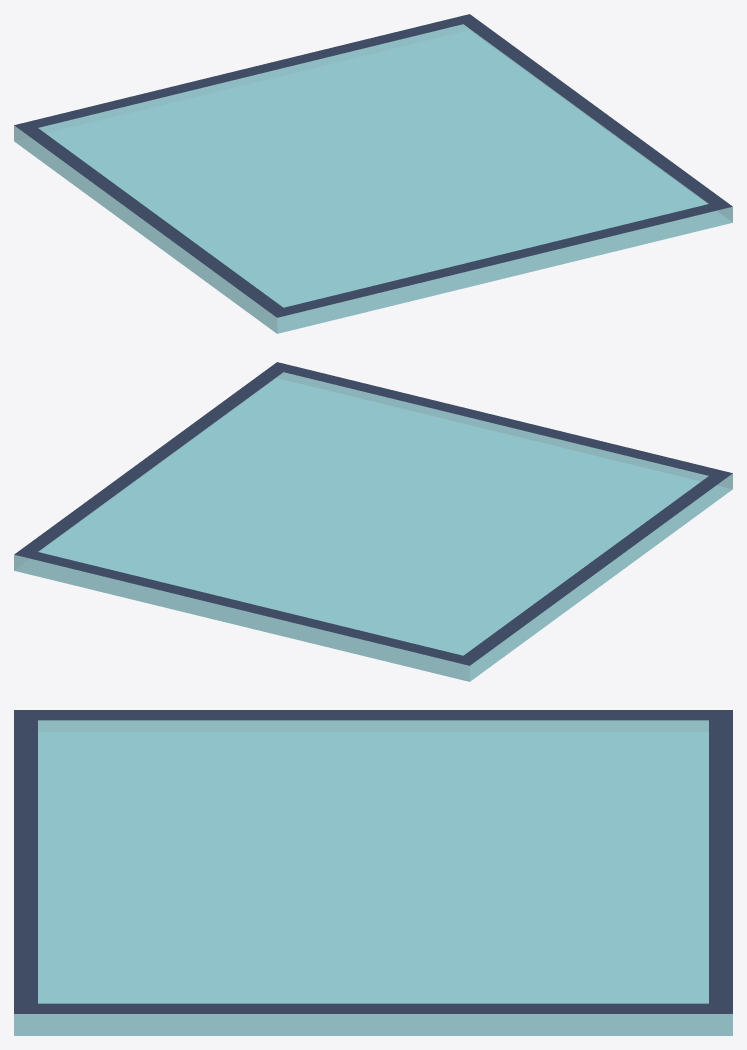
The model's file is flowTitle.fbx.
3 renders of one model, top to bottom at view 1: azimuth 30°, elevation 25°; view 2: azimuth 150°, elevation 25°; view 3: azimuth 270°, elevation 25°, orthographic. The views are drawn at different scales.
Visible parts, largest first — view 1: pCube1; view 2: pCube1; view 3: pCube1.
Boxes of the visible parts, x1,y1,x2,y2 form: pCube1: (14,14,732,333); pCube1: (14,362,732,681); pCube1: (14,710,732,1035).
Size of the model in its own units: 24 by 0.8092 by 24.
